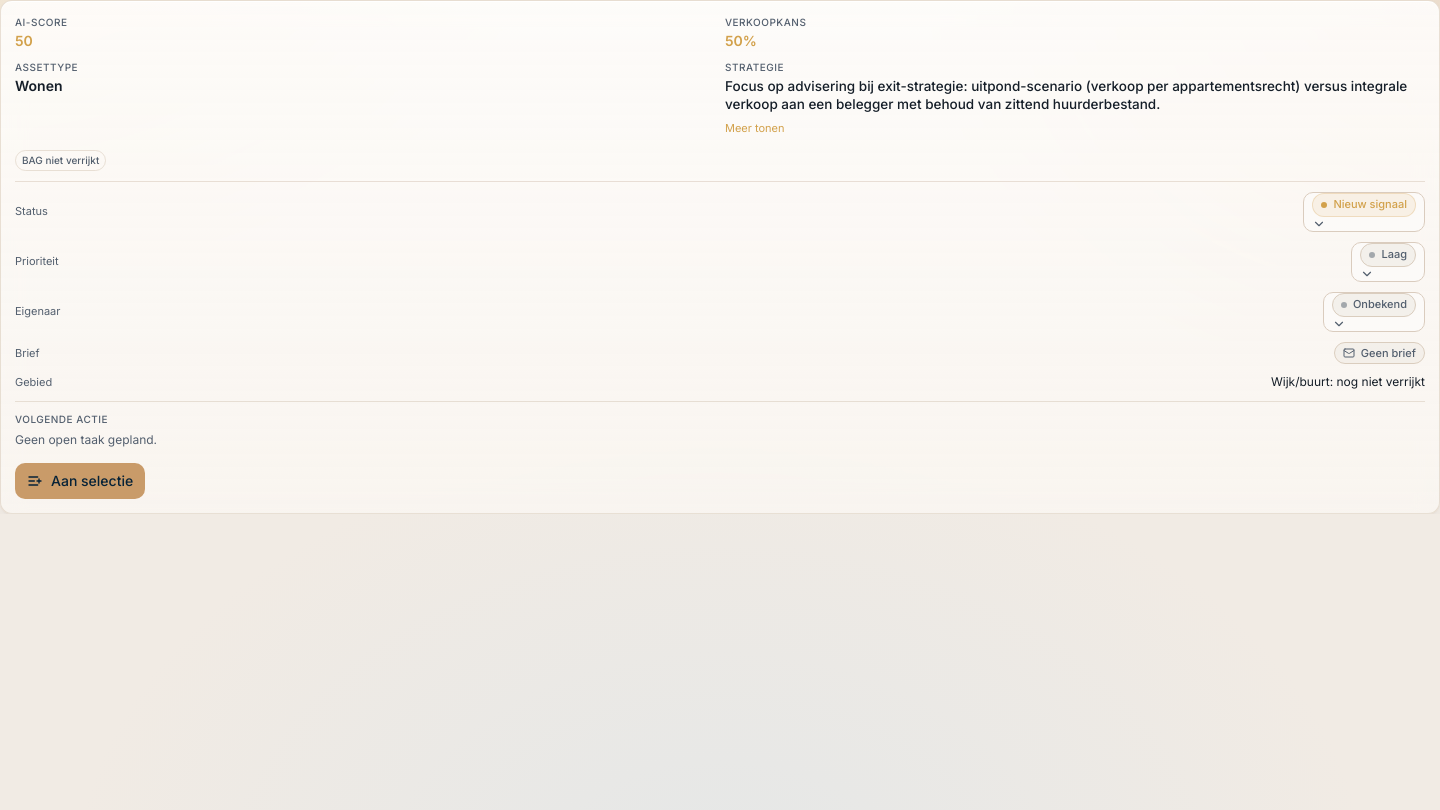
Test: SignaalMobileCockpit — strategie zonder harde afkapping › toont volledige strategietekst (geen "…"-truncation) en biedt Meer/Minder toggle
The image size is (1440, 810).
expect the text "Focus op advisering bij exit-strategie: uitpond-scenario (verkoop per appartementsrecht) versus integrale verkoop aan ee" is shown: met, box x1=725 y1=78 x2=1407 y2=112
Step 1. Click the button "Meer tonen" → (755, 128), box x1=725 y1=120 x2=784 y2=136
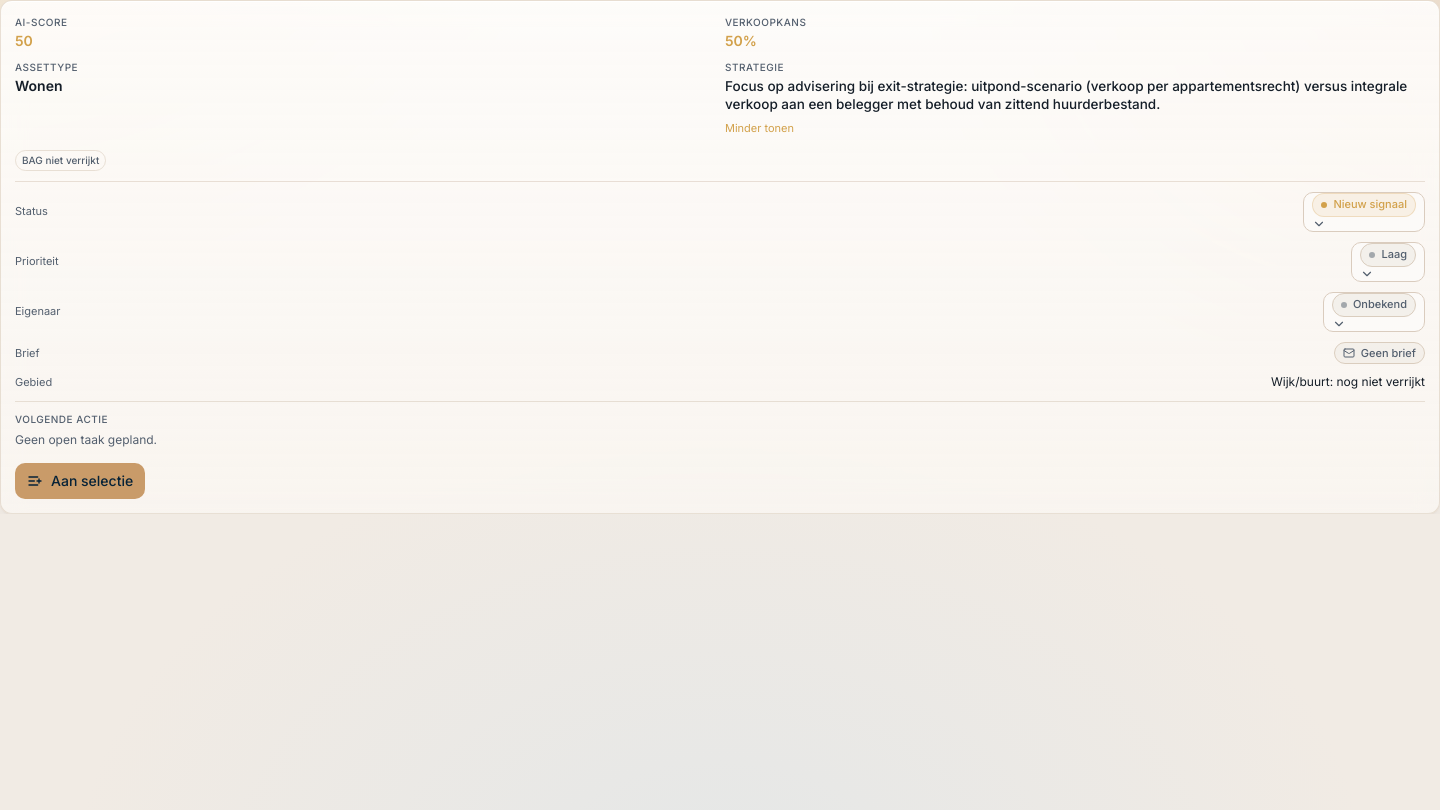
expect the button "Minder tonen" is shown: met, box x1=725 y1=120 x2=794 y2=136
